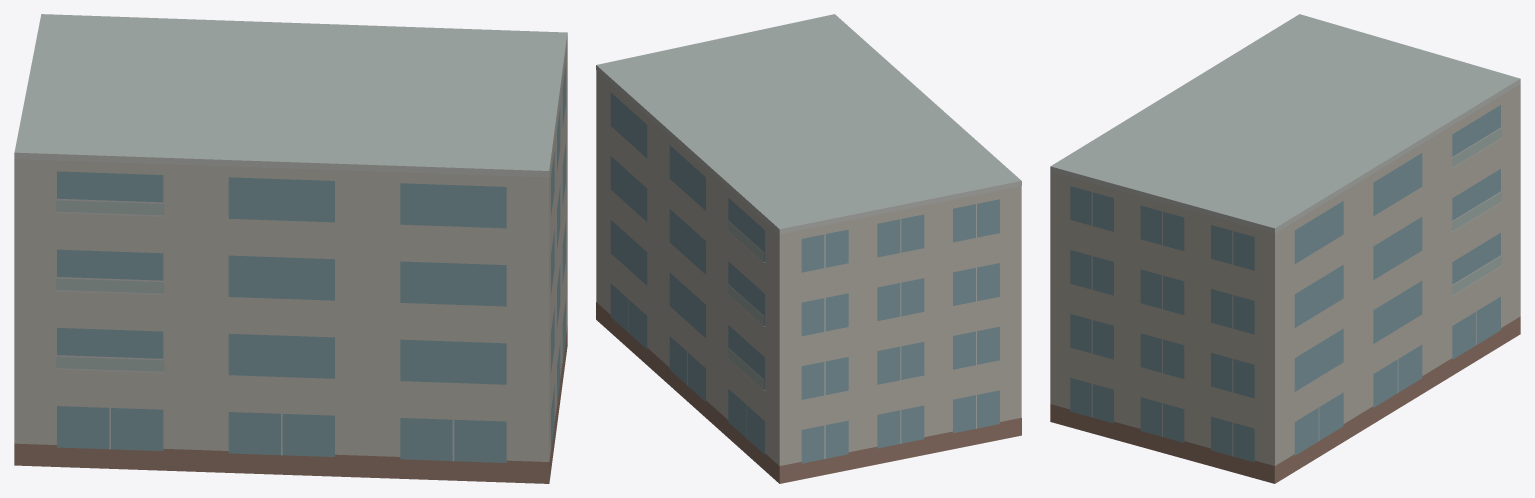
File: survey-upis-32660547.glb
The picture shows the model from 3 angles, left to right: view 1: azimuth 30°, elevation 25°; view 2: azimuth 150°, elevation 25°; view 3: azimuth 270°, elevation 25°; orthographic projection. The views are drawn at different scales.
Parts seen in each view (by area): view 1: survey-upis-32660547.tmp; view 2: survey-upis-32660547.tmp; view 3: survey-upis-32660547.tmp.
Boxes of the visible parts, left/top/right/bottom form: survey-upis-32660547.tmp: left=14, top=14, right=567, bottom=483; survey-upis-32660547.tmp: left=596, top=14, right=1021, bottom=483; survey-upis-32660547.tmp: left=1050, top=14, right=1520, bottom=483.
Bounding box in the file's own units: 21.78 × 12.1 × 20.19.
